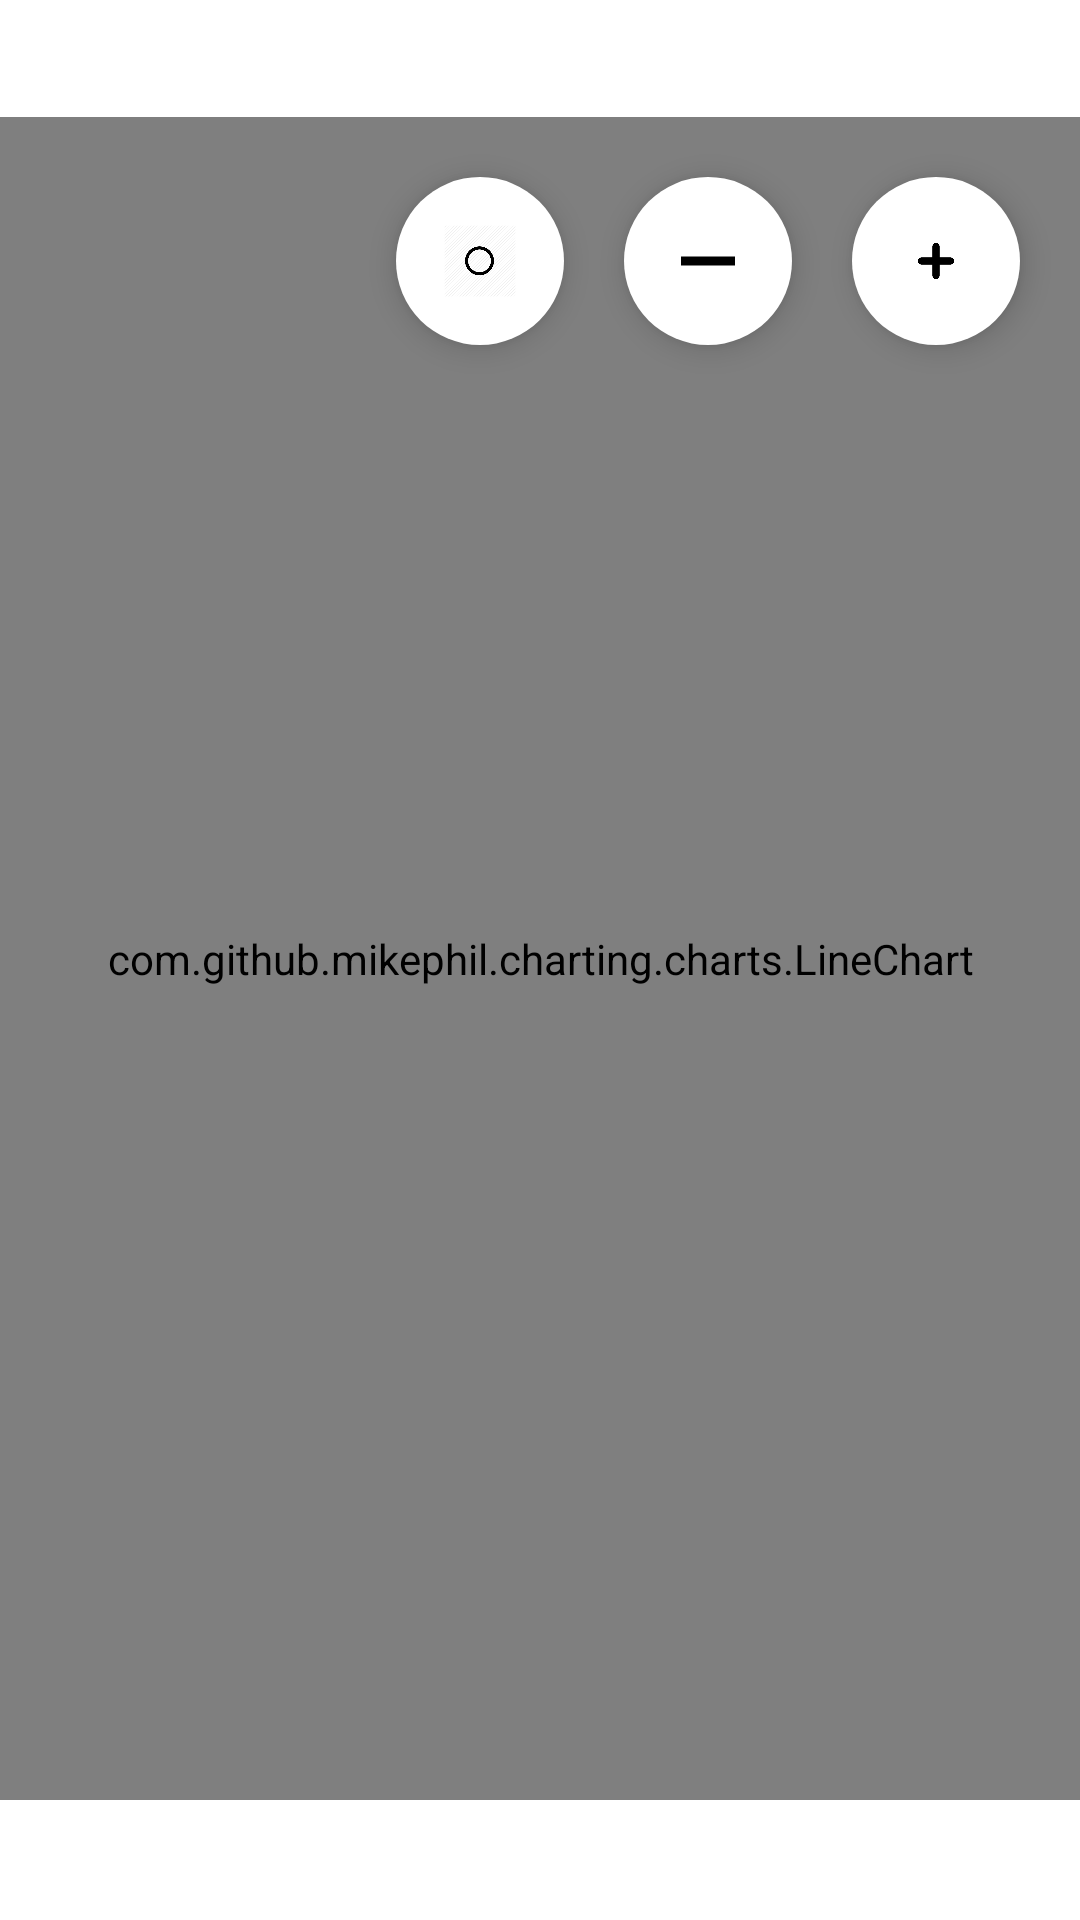

Named icons in this screenshot (1080*1920) and their bounding boxes, bbox=[x1, y1, x2, y2]:
minus: bbox=[624, 177, 792, 345]
plus: bbox=[852, 177, 1020, 345]
